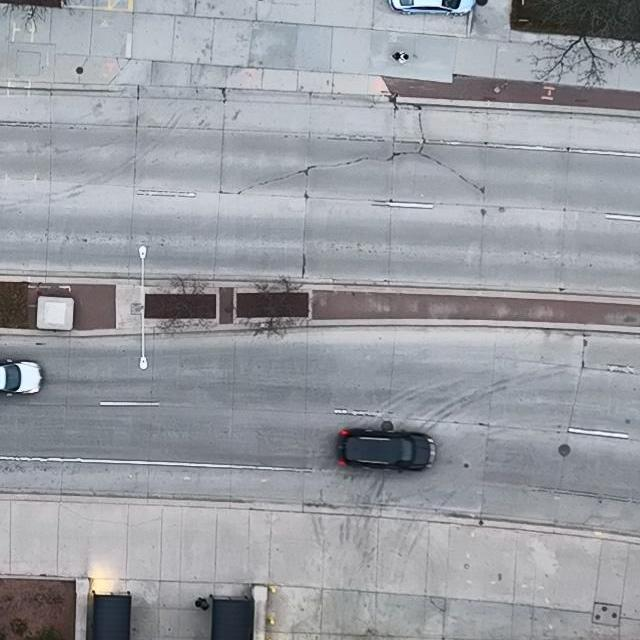car: (336, 427, 436, 474), (0, 359, 43, 397), (387, 0, 477, 14)
